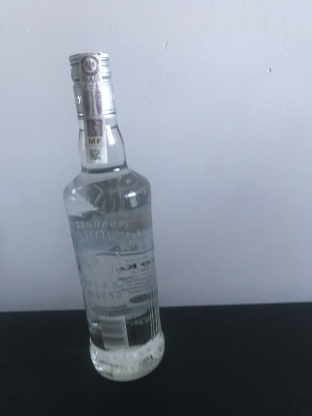nakretka: (67, 49, 118, 122)
